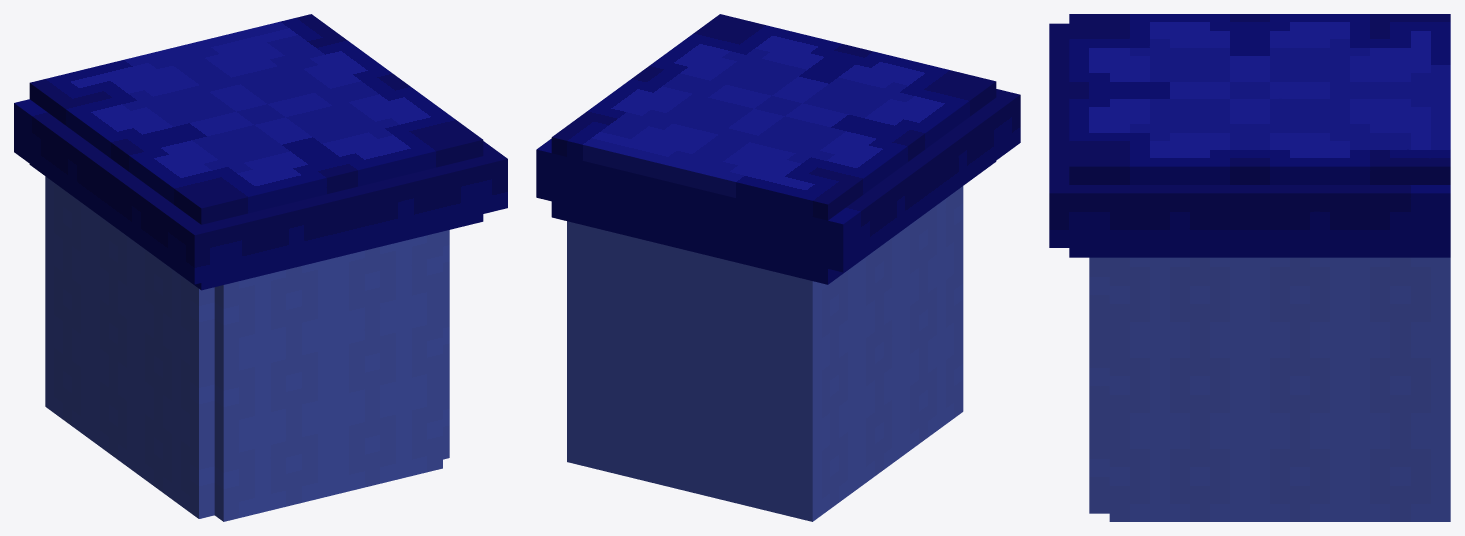
Rendered from full_top_end.glb.
3 views of the same model, side by side, from view 1: azimuth 30°, elevation 25°; view 2: azimuth 150°, elevation 25°; view 3: azimuth 270°, elevation 25° (orthographic). The views are drawn at different scales.
Parts seen in each view (by area): view 1: full_top_end; view 2: full_top_end; view 3: full_top_end.
Boxes of the visible parts, x1,y1,x2,y2 form: full_top_end: [14, 14, 507, 521]; full_top_end: [536, 14, 1020, 521]; full_top_end: [1049, 14, 1450, 521].
Size of the model in its own units: 2 by 2 by 2.
1 material, 1 textured.
